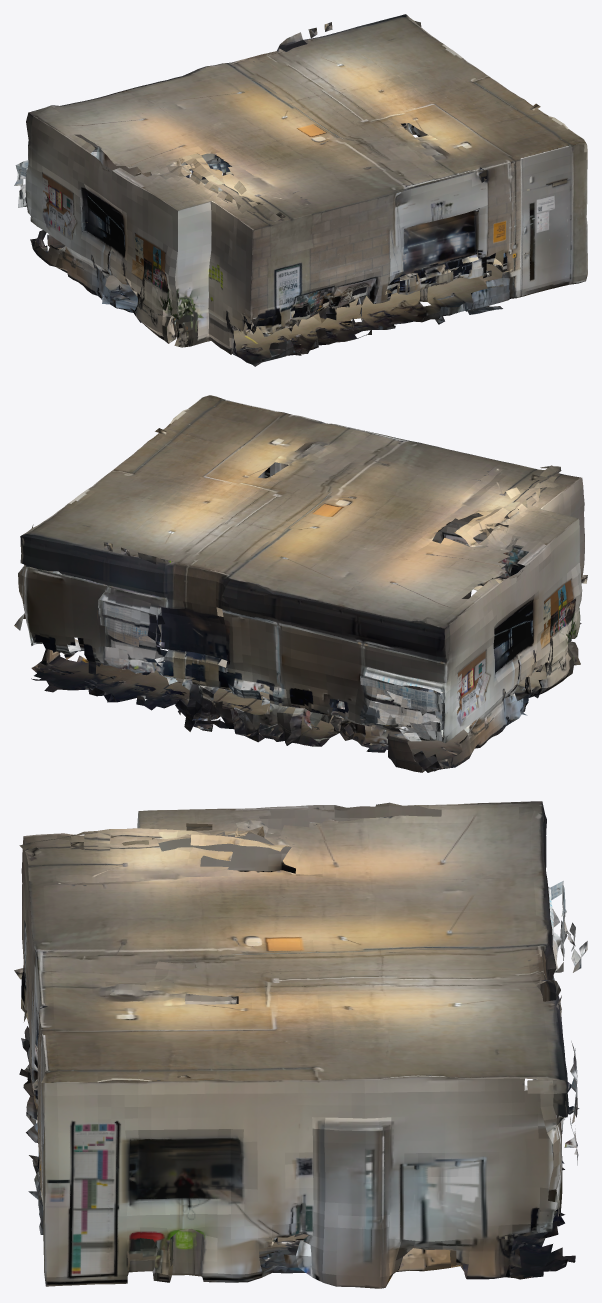
The picture shows the model from 3 angles, top to bottom: view 1: azimuth 30°, elevation 25°; view 2: azimuth 150°, elevation 25°; view 3: azimuth 270°, elevation 25°; orthographic projection. The views are drawn at different scales.
Parts seen in each view (by area): view 1: 309_IM; view 2: 309_IM; view 3: 309_IM.
Part boxes in pixels (left/top/right/bottom): 309_IM: left=14, top=14, right=587, bottom=366; 309_IM: left=14, top=395, right=587, bottom=772; 309_IM: left=14, top=801, right=587, bottom=1288.
Bounding box in the file's own units: 956 × 374 × 806.
Materials: 1 (1 with a texture image).
